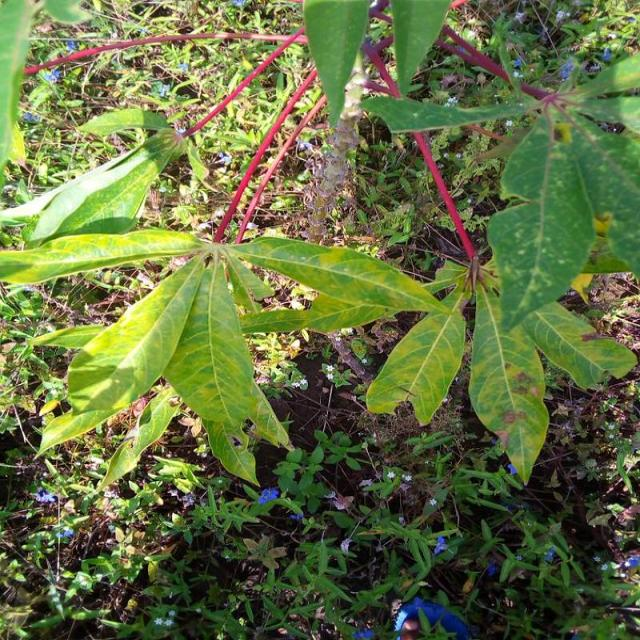cassava leaf: (2, 125, 184, 246), (467, 280, 550, 484), (302, 0, 369, 129)
